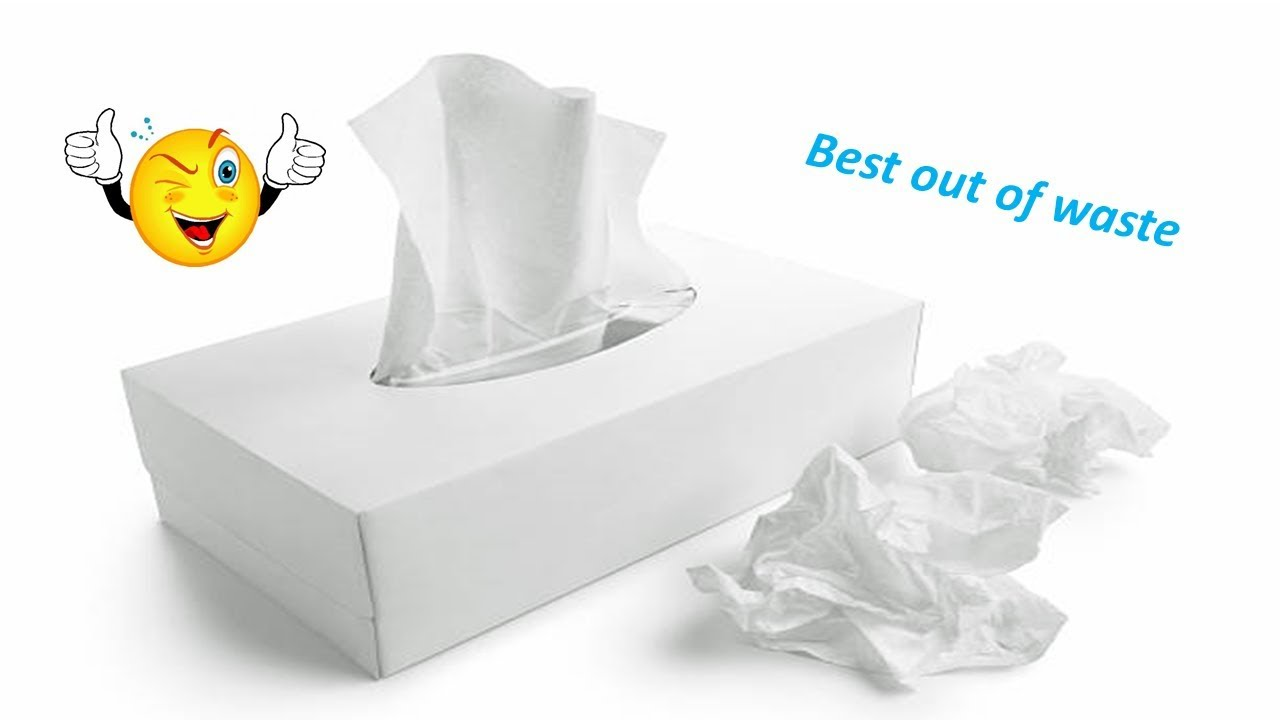Tissue: (353, 46, 693, 383), (679, 439, 1075, 700)
